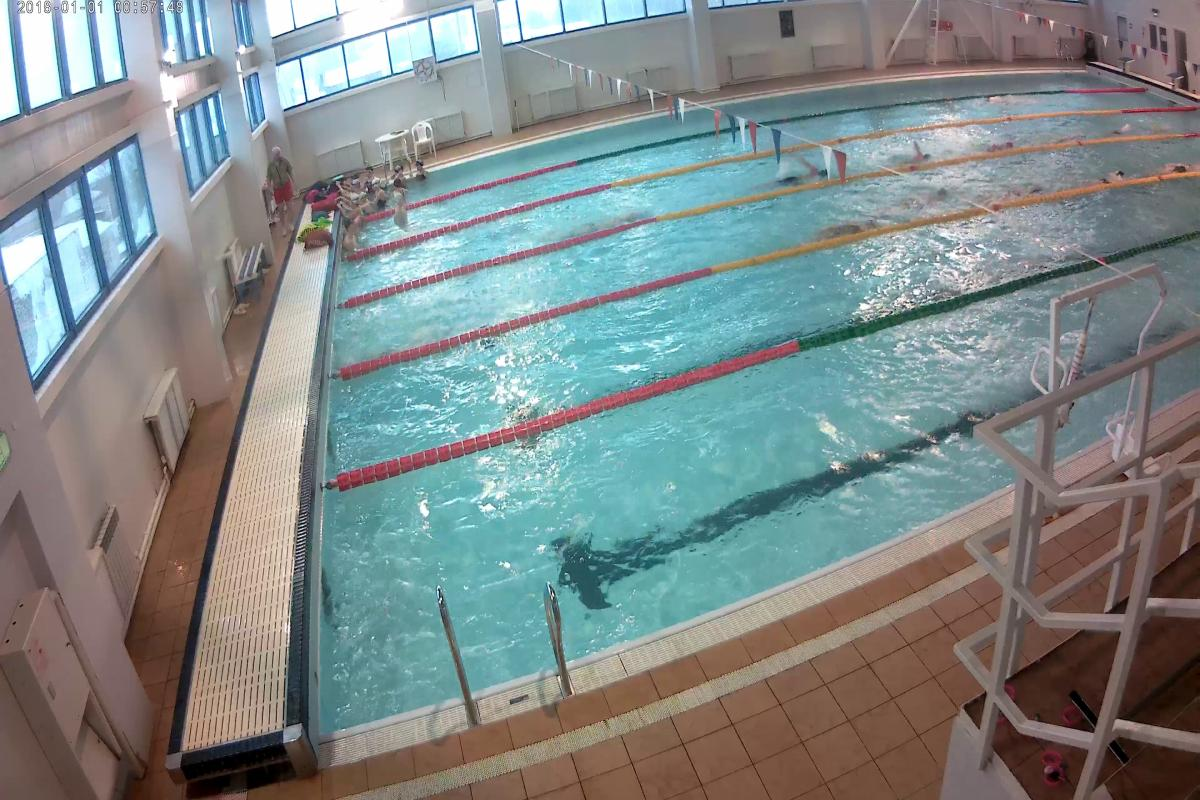swimmer: (767, 160, 826, 188), (1090, 158, 1128, 187), (905, 132, 935, 168), (1152, 155, 1190, 179), (990, 130, 1016, 148)
